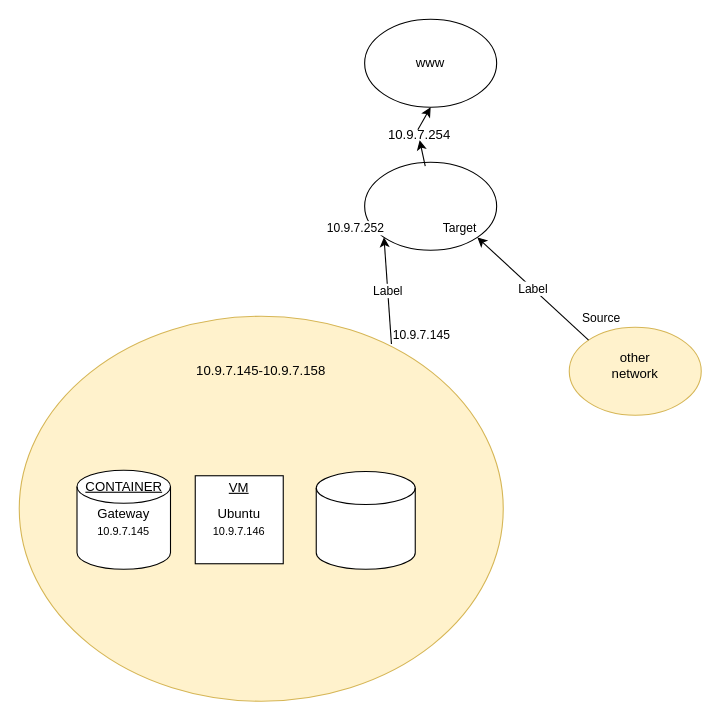
Image size: 721x721. Some labels were removed from this diagram. The shapes that lost their labels are listed below. From the top down, each one's centre as x and y in pixels, then its label:
point (430, 205): Gluenet
point (365, 519): Webserver
